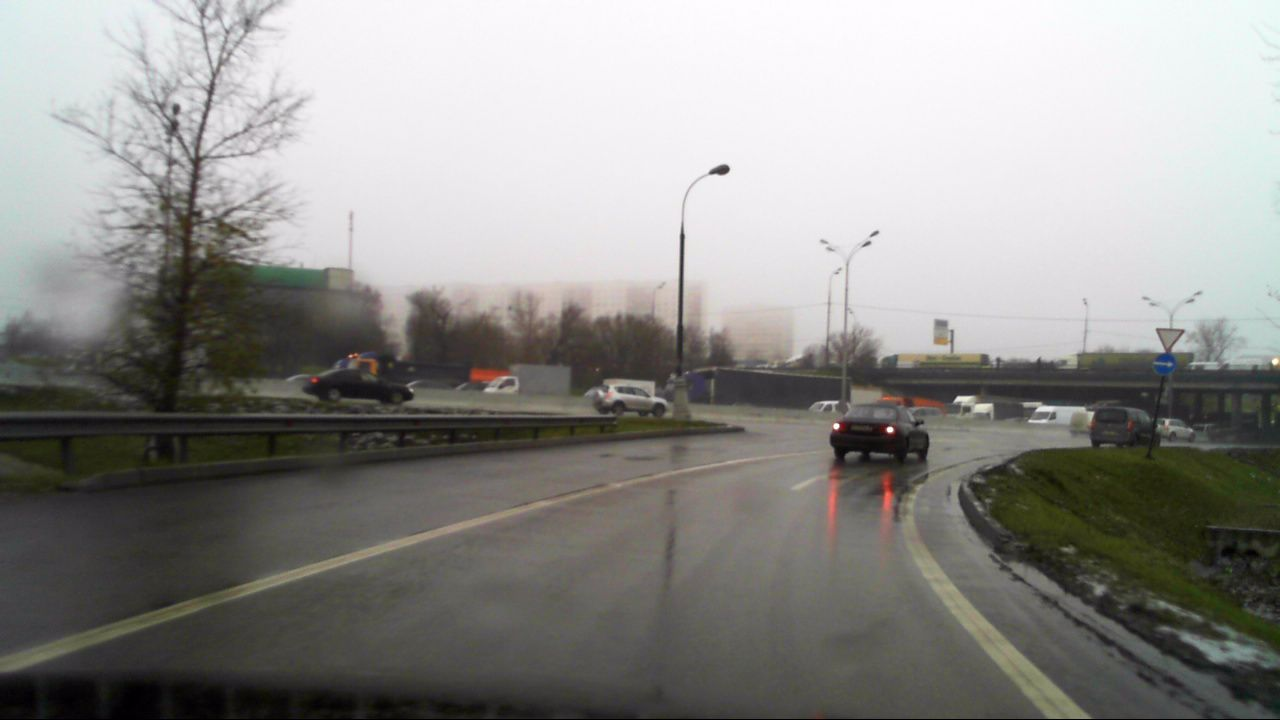Turn Right: (1152, 354, 1177, 376)
